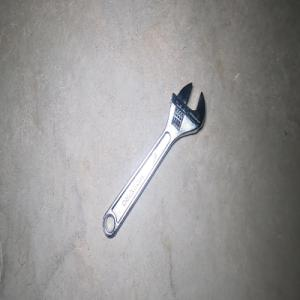Wrench: (102, 82, 205, 237)
